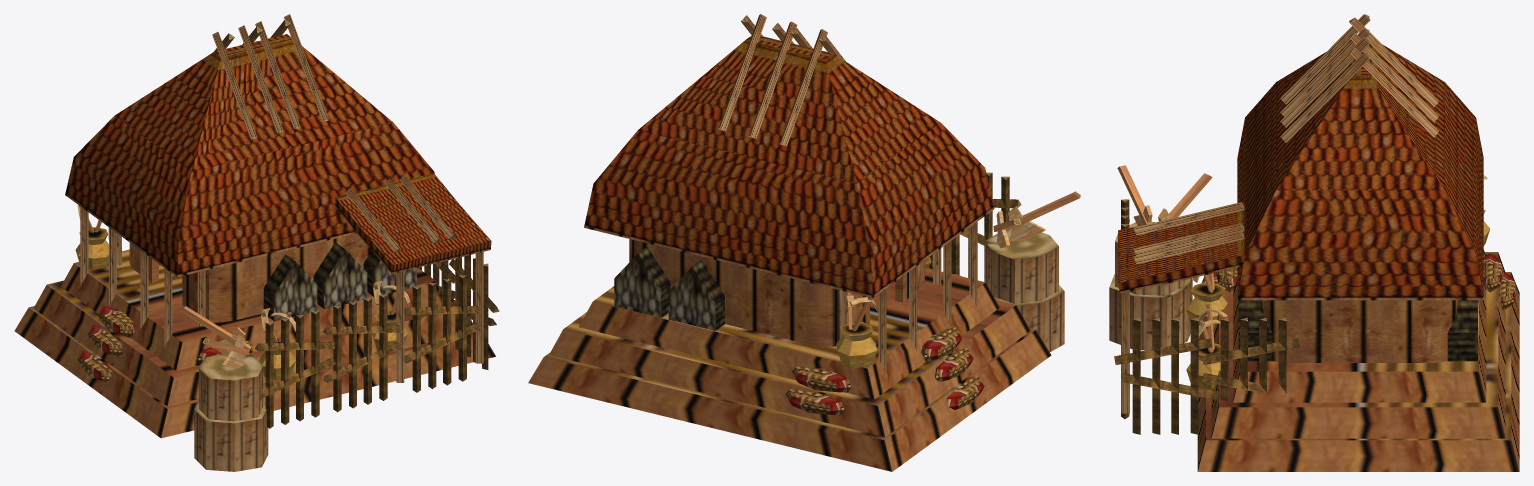
The model's file is storehouse.dae.
3 renders of one model, left to right at view 1: azimuth 30°, elevation 25°; view 2: azimuth 150°, elevation 25°; view 3: azimuth 270°, elevation 25°, orthographic. The views are drawn at different scales.
Parts seen in each view (by area): view 1: storehouse; view 2: storehouse; view 3: storehouse.
Part boxes in pixels (box(x1,y1,x2,y2)): storehouse: box(14, 14, 499, 471); storehouse: box(528, 14, 1080, 471); storehouse: box(1109, 14, 1519, 471).
Bounding box in the file's own units: 17.61 × 16.93 × 16.66.
